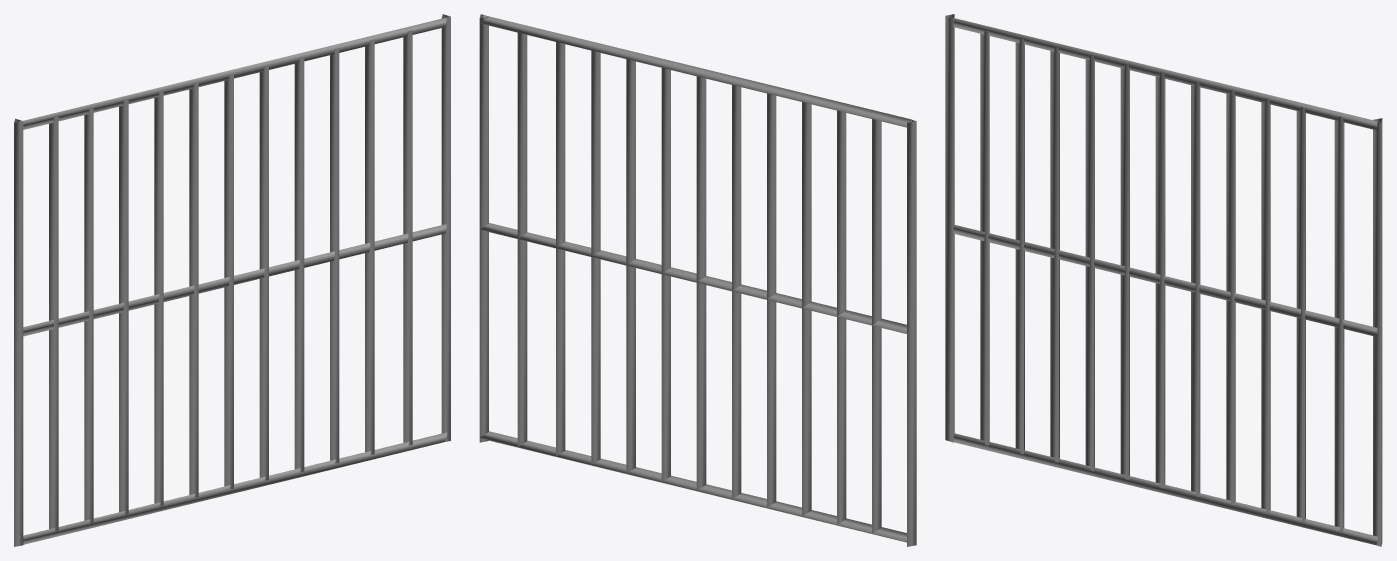
File: INST_SWORDLIGHT_JALLHALLDOOR_ANI1.fbx
3 renders of one model, left to right at view 1: azimuth 30°, elevation 25°; view 2: azimuth 150°, elevation 25°; view 3: azimuth 330°, elevation 25°, orthographic.
Visible parts, largest first — view 1: INST_SWORDLIGHT_JALLHALLDOOR_ANI1; view 2: INST_SWORDLIGHT_JALLHALLDOOR_ANI1; view 3: INST_SWORDLIGHT_JALLHALLDOOR_ANI1.
Part boxes in pixels (box(x1,y1,x2,y2)): INST_SWORDLIGHT_JALLHALLDOOR_ANI1: box(14, 14, 450, 546); INST_SWORDLIGHT_JALLHALLDOOR_ANI1: box(479, 14, 916, 546); INST_SWORDLIGHT_JALLHALLDOOR_ANI1: box(945, 14, 1382, 546).
Bounding box in the file's own units: 88483 × 82225 × 1667.
Materials: 1 (1 with a texture image).
